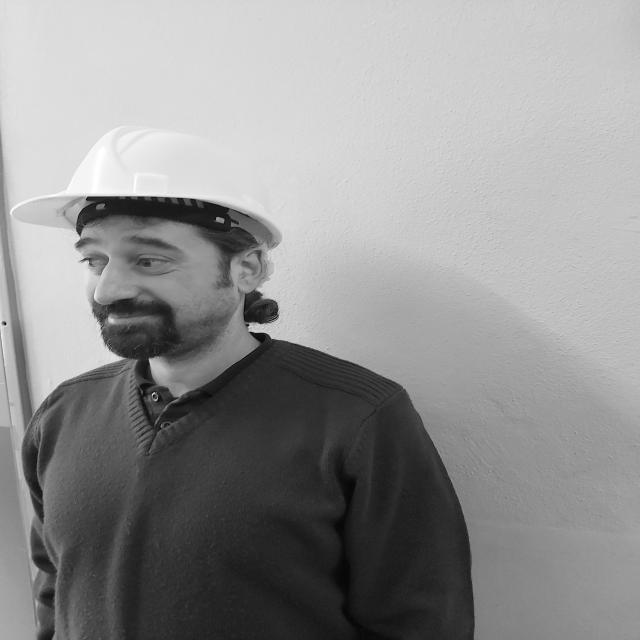safety_helmet: (13, 127, 283, 253)
